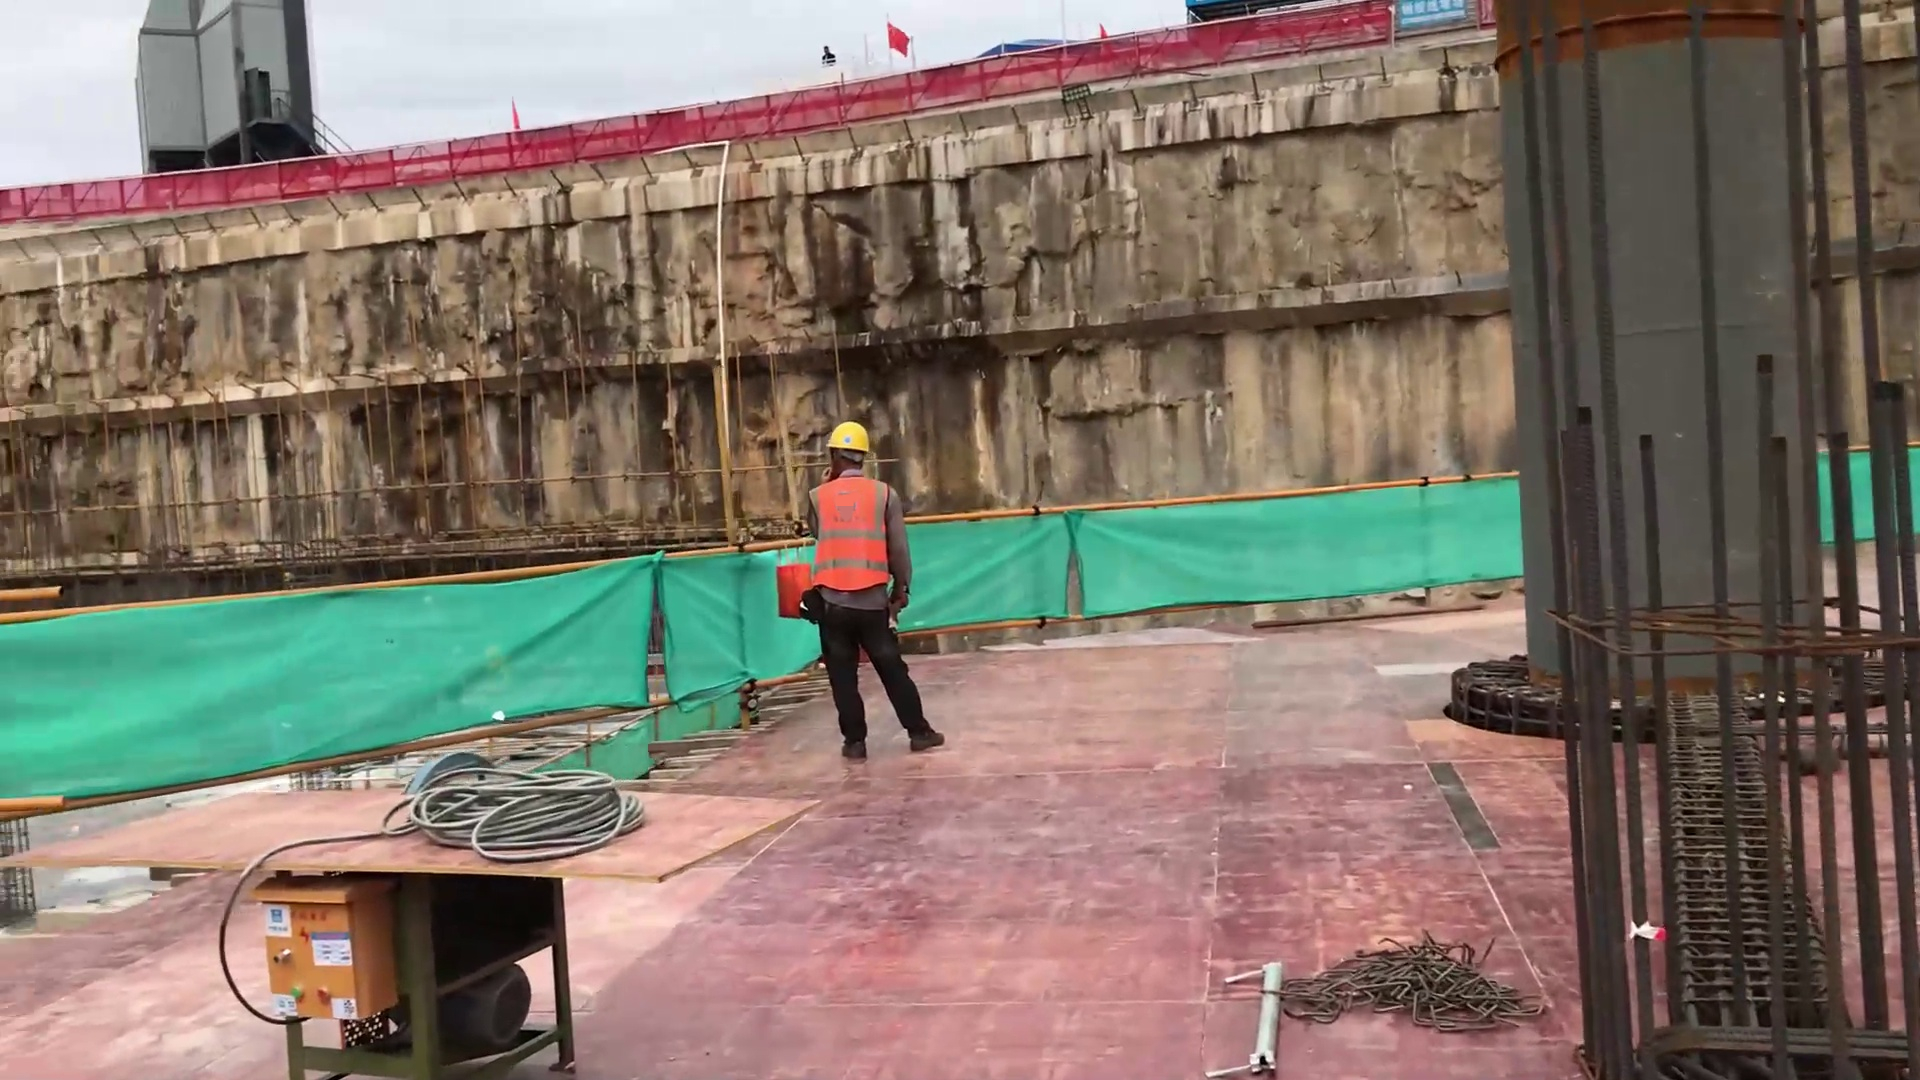cutter: (22, 768, 857, 1080)
ebox: (260, 872, 409, 1031)
fence: (1, 168, 340, 211)
helmet: (824, 420, 876, 453)
person: (800, 418, 964, 761)
slogan: (1388, 1, 1475, 30)
vest: (810, 474, 899, 594)
